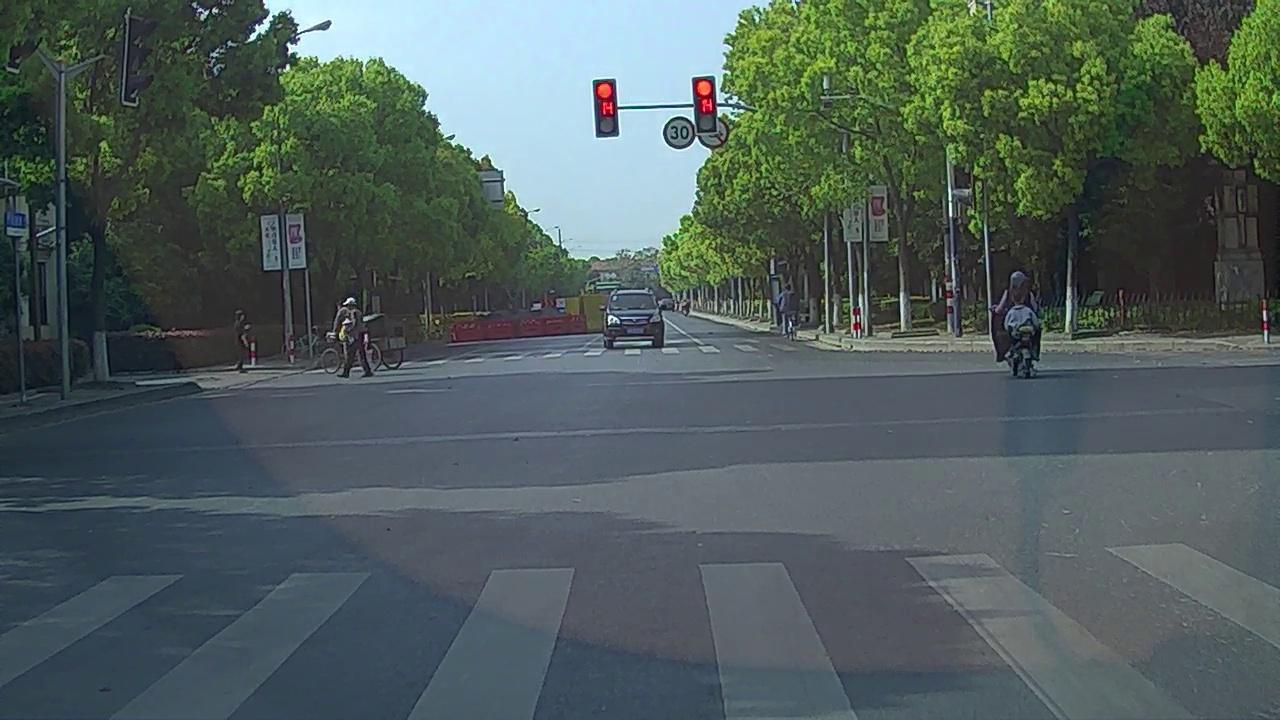traffic_light: (694, 76, 717, 132), (595, 80, 617, 135)
